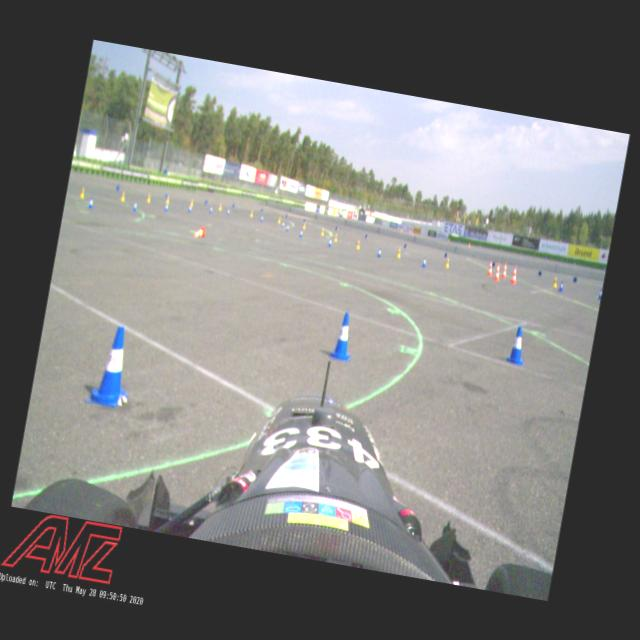blue_cone: (84, 322, 140, 411), (328, 310, 358, 362), (504, 324, 530, 366), (86, 196, 94, 210), (420, 255, 428, 268), (557, 280, 565, 292), (132, 199, 138, 211), (376, 246, 382, 257), (298, 228, 304, 238), (284, 222, 290, 232), (327, 237, 332, 247), (280, 220, 285, 228)
large_orange_cone: (492, 260, 502, 282), (509, 264, 519, 284), (192, 224, 206, 238), (500, 262, 509, 279), (486, 258, 494, 276)
yellow_cone: (78, 186, 85, 199), (552, 274, 558, 288), (444, 256, 451, 268), (354, 238, 360, 250), (120, 190, 126, 202), (396, 248, 402, 258), (276, 216, 282, 224)
